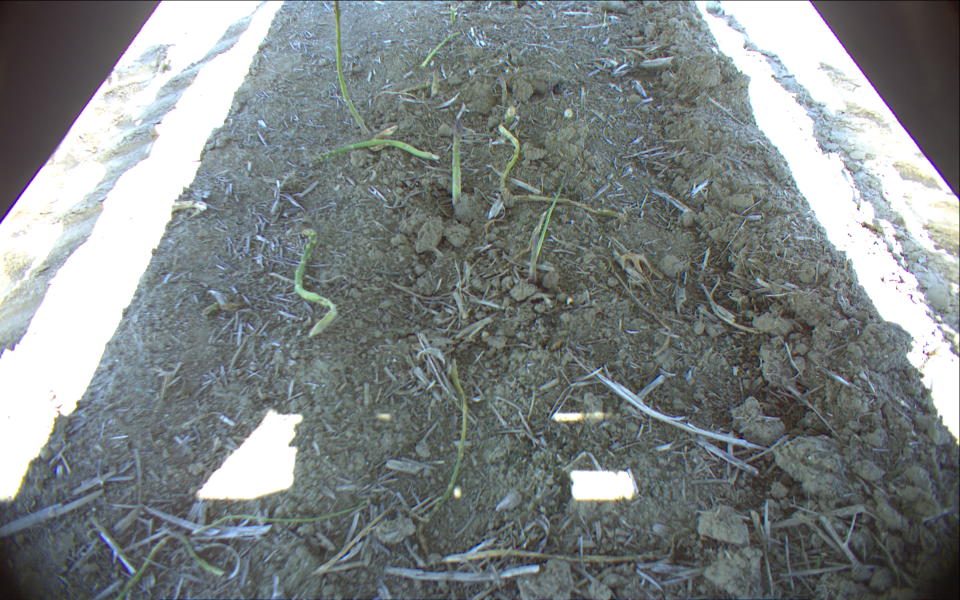aspa: (331, 1, 372, 140), (451, 117, 465, 206)
